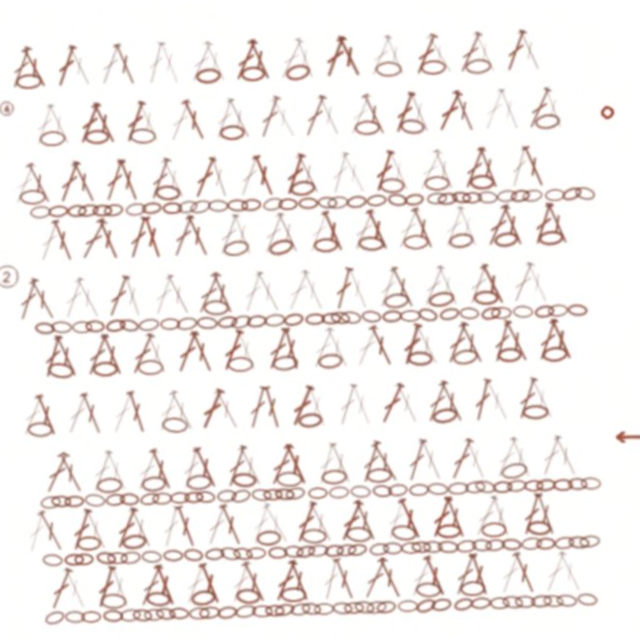chain: (270, 236, 297, 256), (225, 236, 253, 255), (428, 294, 456, 313), (45, 352, 73, 371), (495, 468, 523, 487), (293, 62, 320, 81), (383, 526, 410, 545), (158, 411, 185, 429), (428, 411, 455, 429), (406, 121, 432, 139), (496, 237, 522, 255), (451, 353, 477, 371), (360, 237, 387, 254), (338, 527, 365, 544), (541, 121, 567, 138), (159, 179, 185, 196), (294, 179, 320, 196), (451, 237, 477, 254), (384, 295, 410, 312), (316, 353, 342, 370), (226, 469, 252, 486), (114, 527, 140, 544), (519, 527, 545, 544), (136, 585, 162, 602), (181, 585, 207, 602), (226, 585, 252, 602), (406, 585, 432, 602), (474, 64, 500, 80), (136, 122, 162, 138), (271, 354, 297, 370), (294, 412, 320, 428), (91, 470, 117, 486), (271, 470, 297, 486), (91, 586, 117, 602), (204, 64, 229, 80), (384, 180, 409, 196), (541, 238, 566, 254), (204, 296, 229, 312), (406, 354, 431, 370), (541, 354, 566, 370), (24, 412, 49, 428), (136, 470, 161, 486), (181, 470, 206, 486), (249, 528, 274, 544), (294, 528, 319, 544), (405, 600, 427, 618), (193, 194, 216, 211), (468, 484, 491, 501), (211, 542, 234, 559), (24, 64, 50, 79), (384, 64, 410, 79), (429, 64, 455, 79), (46, 122, 72, 137), (361, 122, 387, 137), (24, 180, 50, 195), (136, 354, 162, 369), (226, 354, 252, 369), (519, 412, 545, 427), (316, 470, 342, 485), (361, 470, 387, 485), (271, 586, 297, 601), (249, 64, 274, 79), (91, 122, 116, 137), (226, 122, 251, 137), (429, 180, 454, 195), (474, 180, 499, 195), (316, 238, 341, 253), (406, 238, 431, 253), (474, 296, 499, 311), (91, 354, 116, 369), (496, 354, 521, 369), (69, 528, 94, 543), (429, 528, 454, 543), (474, 528, 499, 543), (451, 586, 476, 601), (565, 194, 587, 211), (578, 194, 600, 211), (417, 310, 439, 327), (34, 600, 56, 617), (118, 311, 140, 327), (230, 311, 252, 327), (480, 311, 502, 327), (133, 485, 155, 501), (224, 485, 246, 501), (224, 543, 246, 559), (287, 543, 309, 559), (443, 601, 465, 617), (81, 195, 103, 210), (266, 195, 288, 210), (340, 311, 362, 326), (78, 485, 100, 500), (87, 543, 109, 558), (225, 601, 247, 616), (492, 601, 514, 616), (181, 195, 202, 210), (391, 195, 412, 210), (455, 195, 476, 210), (514, 195, 535, 210), (105, 311, 126, 326), (283, 311, 304, 326), (330, 311, 351, 326), (361, 311, 382, 326), (439, 311, 460, 326), (279, 485, 300, 500), (175, 543, 196, 558), (145, 601, 166, 616), (264, 601, 285, 616), (280, 601, 301, 616), (291, 601, 312, 616), (344, 601, 365, 616), (421, 601, 442, 616), (567, 601, 588, 616), (129, 196, 151, 210), (331, 196, 353, 210), (138, 312, 160, 326), (176, 312, 198, 326), (196, 312, 218, 326), (421, 486, 443, 500), (429, 544, 451, 558), (560, 544, 582, 558), (546, 602, 568, 616), (107, 196, 128, 210), (321, 196, 342, 210), (350, 196, 371, 210), (408, 196, 429, 210), (441, 196, 462, 210), (481, 196, 502, 210), (526, 196, 547, 210), (34, 312, 55, 326), (217, 312, 238, 326), (246, 312, 267, 326), (534, 312, 555, 326), (567, 312, 588, 326), (34, 486, 55, 500), (189, 486, 210, 500), (245, 486, 266, 500), (268, 486, 289, 500), (344, 486, 365, 500), (366, 486, 387, 500), (34, 544, 55, 558), (112, 544, 133, 558), (133, 544, 154, 558), (316, 544, 337, 558), (328, 544, 349, 558), (339, 544, 360, 558), (361, 544, 382, 558), (448, 544, 469, 558), (477, 544, 498, 558), (493, 544, 514, 558), (546, 544, 567, 558), (122, 602, 143, 616), (207, 602, 228, 616), (322, 602, 343, 616), (356, 602, 377, 616), (366, 602, 387, 616), (533, 602, 554, 616), (264, 312, 286, 325), (513, 544, 535, 557), (571, 544, 593, 557), (34, 196, 55, 209), (145, 196, 166, 209), (231, 196, 252, 209), (370, 196, 391, 209), (51, 312, 72, 325), (459, 312, 480, 325), (99, 486, 120, 499), (113, 486, 134, 499), (459, 486, 480, 499), (300, 544, 321, 557), (403, 544, 424, 557), (110, 602, 131, 615), (189, 602, 210, 615), (505, 602, 526, 615), (521, 602, 542, 615), (52, 196, 72, 209), (71, 196, 91, 209), (212, 196, 232, 209), (245, 196, 265, 209), (431, 196, 451, 209), (501, 196, 521, 209), (85, 312, 105, 325), (382, 312, 402, 325), (513, 312, 533, 325), (548, 312, 568, 325), (45, 486, 65, 499), (211, 486, 231, 499), (382, 486, 402, 499), (501, 486, 521, 499), (530, 486, 550, 499), (562, 486, 582, 499), (575, 486, 595, 499), (155, 544, 175, 557), (197, 544, 217, 557), (276, 544, 296, 557), (375, 544, 395, 557), (415, 544, 435, 557), (464, 544, 484, 557), (55, 602, 75, 615), (93, 602, 113, 615), (159, 602, 179, 615), (461, 602, 481, 615), (400, 313, 421, 325), (491, 313, 512, 325), (442, 487, 463, 499), (99, 545, 120, 557), (393, 545, 414, 557), (179, 603, 200, 615), (242, 603, 263, 615), (96, 197, 116, 209), (166, 197, 186, 209), (282, 197, 302, 209), (302, 197, 322, 209), (466, 197, 486, 209), (549, 197, 569, 209), (72, 313, 92, 325), (160, 313, 180, 325), (305, 313, 325, 325), (321, 313, 341, 325), (58, 487, 78, 499), (146, 487, 166, 499), (164, 487, 184, 499), (178, 487, 198, 499), (257, 487, 277, 499), (302, 487, 322, 499), (323, 487, 343, 499), (403, 487, 423, 499), (487, 487, 507, 499), (518, 487, 538, 499), (547, 487, 567, 499), (56, 545, 76, 557), (66, 545, 86, 557), (238, 545, 258, 557), (260, 545, 280, 557), (528, 545, 548, 557), (71, 603, 91, 615), (134, 603, 154, 615), (255, 603, 275, 615), (304, 603, 324, 615), (334, 603, 354, 615), (388, 603, 408, 615), (480, 603, 500, 615)
double: (432, 36, 465, 80), (80, 210, 113, 254), (364, 442, 397, 486), (28, 151, 60, 196), (194, 267, 226, 312), (28, 499, 60, 544), (284, 36, 316, 80), (441, 94, 473, 138), (419, 152, 451, 196), (36, 442, 68, 486), (253, 500, 285, 544), (73, 35, 104, 80), (343, 35, 374, 80), (163, 151, 194, 196), (298, 151, 329, 196), (396, 209, 427, 254), (509, 267, 540, 312), (194, 383, 225, 428), (284, 383, 315, 428), (230, 441, 261, 486), (261, 441, 292, 486), (230, 557, 261, 602), (28, 36, 59, 80), (464, 36, 495, 80), (275, 94, 306, 138), (531, 94, 562, 138), (486, 210, 517, 254), (28, 268, 59, 312), (73, 268, 104, 312), (284, 268, 315, 312), (126, 326, 157, 370), (351, 326, 382, 370), (163, 384, 194, 428), (208, 384, 239, 428), (374, 384, 405, 428), (50, 442, 81, 486), (329, 500, 360, 544), (464, 500, 495, 544), (351, 558, 382, 602), (209, 35, 239, 80), (186, 93, 216, 138), (321, 93, 351, 138), (276, 209, 306, 254), (262, 325, 292, 370), (389, 383, 419, 428), (276, 441, 306, 486), (119, 499, 149, 544), (51, 557, 81, 602), (195, 36, 225, 80), (240, 36, 270, 80), (375, 36, 405, 80), (420, 36, 450, 80), (96, 94, 126, 138), (172, 94, 202, 138), (231, 94, 261, 138), (307, 94, 337, 138), (352, 94, 382, 138), (366, 94, 396, 138), (74, 152, 104, 196), (195, 152, 225, 196), (344, 152, 374, 196), (352, 210, 382, 254), (164, 268, 194, 312), (254, 268, 284, 312), (389, 268, 419, 312), (420, 268, 450, 312), (479, 268, 509, 312), (307, 326, 337, 370), (321, 326, 351, 370), (411, 326, 441, 370), (456, 326, 486, 370), (501, 326, 531, 370), (434, 384, 464, 428), (479, 384, 509, 428), (524, 384, 554, 428), (127, 442, 157, 486), (442, 442, 472, 486), (487, 442, 517, 486), (546, 442, 576, 486), (299, 500, 329, 544), (37, 558, 67, 602), (127, 558, 157, 602), (262, 558, 292, 602), (366, 558, 396, 602), (397, 558, 427, 602), (532, 558, 562, 602), (546, 558, 576, 602), (105, 35, 134, 80), (254, 35, 283, 80), (330, 35, 359, 80), (479, 35, 508, 80), (524, 35, 553, 80), (51, 93, 80, 138), (82, 93, 111, 138), (141, 93, 170, 138), (397, 93, 426, 138), (487, 93, 516, 138), (15, 151, 44, 196), (60, 151, 89, 196), (240, 151, 269, 196), (389, 151, 418, 196), (465, 151, 494, 196), (172, 209, 201, 254), (186, 209, 215, 254), (262, 209, 291, 254), (307, 209, 336, 254), (366, 209, 395, 254), (501, 209, 530, 254), (546, 209, 575, 254), (105, 267, 134, 312), (209, 267, 238, 312), (299, 267, 328, 312), (434, 267, 463, 312), (465, 267, 494, 312), (524, 267, 553, 312), (51, 325, 80, 370), (82, 325, 111, 370), (141, 325, 170, 370), (172, 325, 201, 370), (366, 325, 395, 370), (442, 325, 471, 370), (546, 325, 575, 370), (15, 383, 44, 428), (60, 383, 89, 428), (105, 383, 134, 428), (420, 383, 449, 428), (186, 441, 215, 486), (456, 441, 485, 486), (532, 441, 561, 486), (74, 499, 103, 544), (105, 499, 134, 544), (285, 499, 314, 544), (344, 499, 373, 544), (389, 499, 418, 544), (172, 557, 201, 602), (442, 557, 471, 602), (501, 557, 530, 602), (16, 35, 44, 80), (61, 35, 89, 80), (120, 35, 148, 80), (390, 35, 418, 80), (511, 35, 539, 80), (128, 93, 156, 138), (263, 93, 291, 138), (412, 93, 440, 138), (457, 93, 485, 138), (502, 93, 530, 138), (151, 151, 179, 196), (255, 151, 283, 196), (286, 151, 314, 196), (435, 151, 463, 196), (525, 151, 553, 196), (38, 209, 66, 254), (97, 209, 125, 254), (218, 209, 246, 254), (322, 209, 350, 254), (412, 209, 440, 254), (443, 209, 471, 254), (61, 267, 89, 312), (151, 267, 179, 312), (97, 325, 125, 370), (187, 325, 215, 370), (218, 325, 246, 370), (533, 325, 561, 370), (151, 383, 179, 428), (83, 441, 111, 486), (97, 441, 125, 486), (142, 441, 170, 486), (218, 441, 246, 486), (322, 441, 350, 486), (412, 441, 440, 486), (502, 441, 530, 486), (196, 499, 224, 544), (210, 499, 238, 544), (421, 499, 449, 544), (142, 557, 170, 602), (187, 557, 215, 602), (218, 557, 246, 602), (412, 557, 440, 602), (488, 557, 516, 602), (165, 35, 192, 80), (300, 35, 327, 80), (38, 93, 65, 138), (218, 93, 245, 138), (547, 93, 574, 138), (106, 151, 133, 196), (120, 151, 147, 196), (376, 151, 403, 196), (480, 151, 507, 196), (52, 209, 79, 254), (128, 209, 155, 254), (232, 209, 259, 254), (457, 209, 484, 254), (533, 209, 560, 254), (16, 267, 43, 312), (241, 267, 268, 312), (345, 267, 372, 312), (376, 267, 403, 312), (232, 325, 259, 370), (398, 325, 425, 370), (30, 383, 57, 428), (75, 383, 102, 428), (331, 383, 358, 428), (345, 383, 372, 428), (511, 383, 538, 428), (353, 441, 380, 486), (61, 499, 88, 544), (241, 499, 268, 544), (376, 499, 403, 544), (435, 499, 462, 544), (277, 557, 304, 602), (322, 557, 349, 602), (152, 35, 178, 80), (332, 151, 358, 196), (332, 267, 358, 312), (39, 325, 65, 370), (242, 383, 268, 428), (301, 383, 327, 428), (309, 441, 335, 486), (399, 441, 425, 486), (17, 499, 43, 544), (166, 499, 192, 544), (481, 499, 507, 544), (512, 499, 538, 544), (526, 499, 552, 544), (84, 557, 110, 602), (98, 557, 124, 602), (211, 151, 236, 196), (512, 151, 537, 196), (143, 209, 168, 254), (121, 267, 146, 312), (489, 325, 514, 370), (121, 383, 146, 428), (174, 441, 199, 486), (152, 499, 177, 544), (458, 557, 483, 602), (257, 383, 281, 428), (468, 383, 492, 428), (310, 557, 334, 602), (279, 325, 302, 370)
noise: (0, 252, 22, 279), (4, 88, 24, 108), (609, 442, 638, 453), (606, 114, 622, 130)
